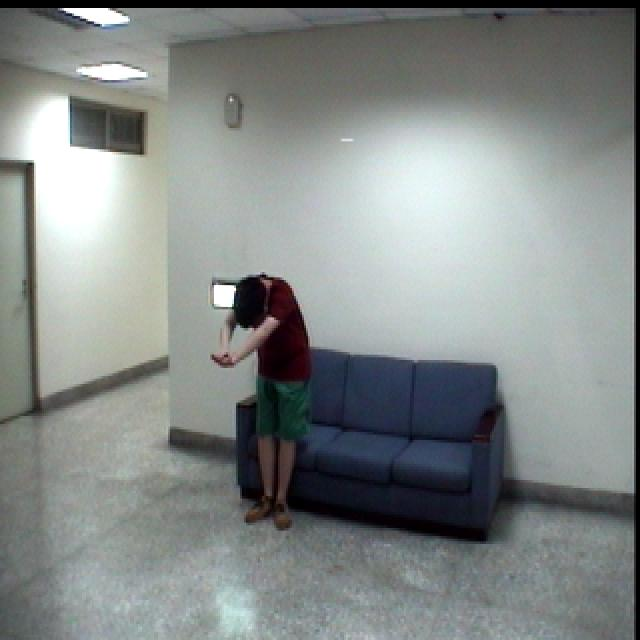bend: (208, 273, 316, 534)
